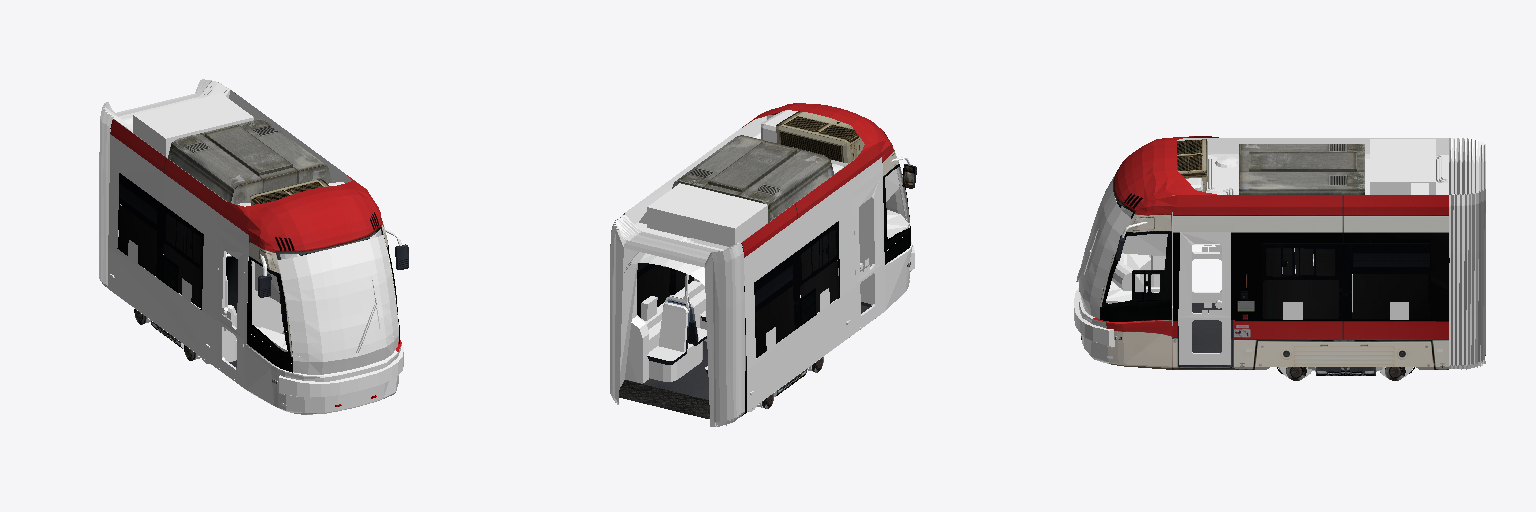
3 renders of one model, left to right at view 1: azimuth 30°, elevation 25°; view 2: azimuth 150°, elevation 25°; view 3: azimuth 270°, elevation 25°, orthographic.
Visible parts, largest first — view 1: body, okno, okno_int, d_rl, salon, steklo; view 2: body, salon, okno_int, d_rl, okno, steklo; view 3: body, okno_int, okno, salon, d_ll, d_rl.
Boxes of the visible parts, box(x1,y1,x2,y2) form: body: box(99, 79, 408, 414); okno: box(247, 218, 399, 374); okno_int: box(117, 173, 203, 309); d_rl: box(217, 235, 244, 384); salon: box(118, 204, 398, 367); steklo: box(226, 253, 283, 333); body: box(610, 103, 916, 426); salon: box(625, 167, 909, 400); okno_int: box(637, 221, 839, 357); d_rl: box(854, 181, 881, 329); okno: box(882, 148, 910, 264); steklo: box(812, 198, 870, 303); body: box(1074, 136, 1485, 380); okno_int: box(1262, 243, 1429, 319); okno: box(1079, 176, 1171, 321); salon: box(1102, 198, 1352, 352); d_ll: box(1178, 232, 1230, 364); d_rl: box(1192, 245, 1221, 302).
Bounding box in the file's own units: 2.86 × 3.9 × 7.03.
77 materials, 26 textured.